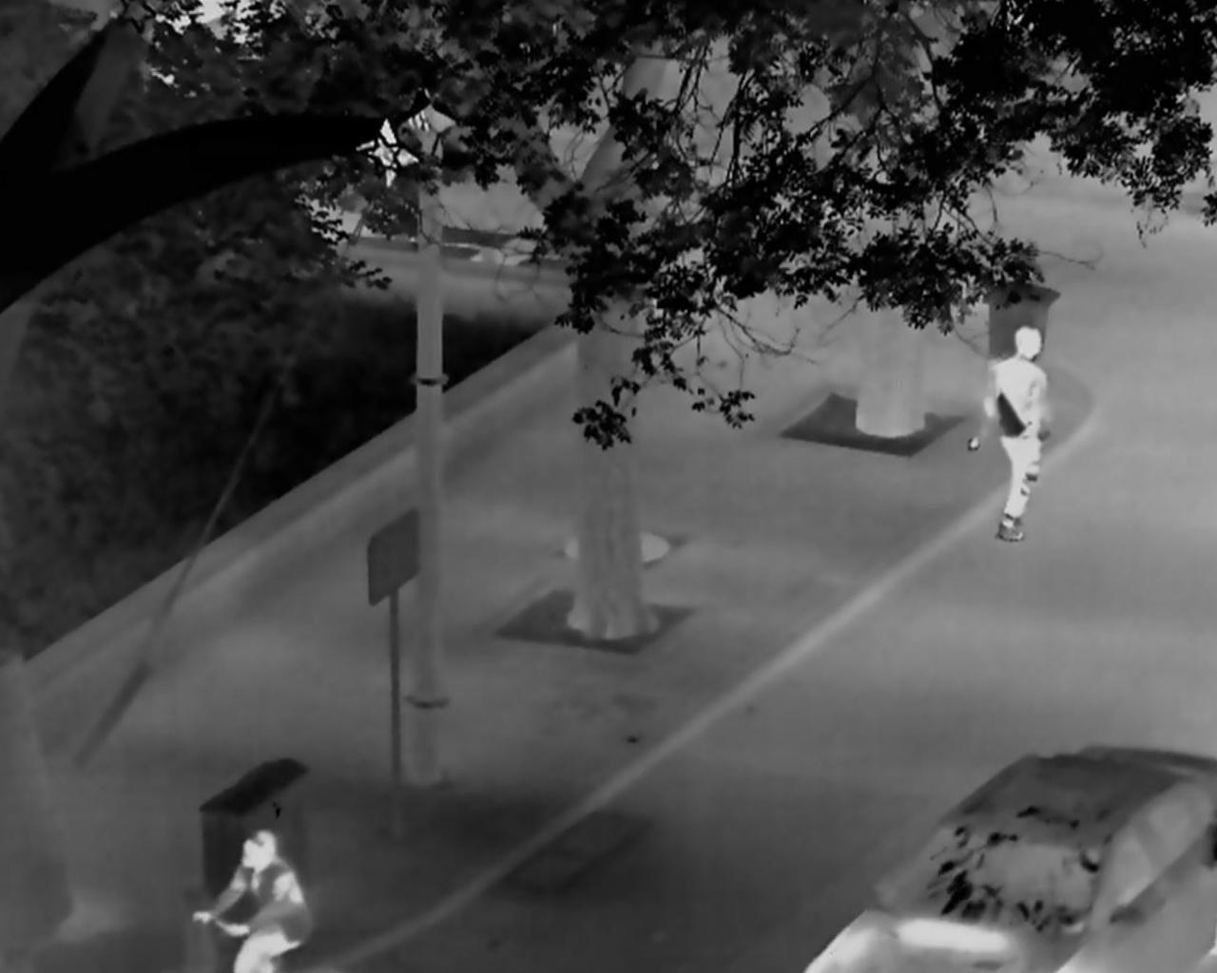person: (965, 324, 1052, 544), (190, 829, 314, 973)
